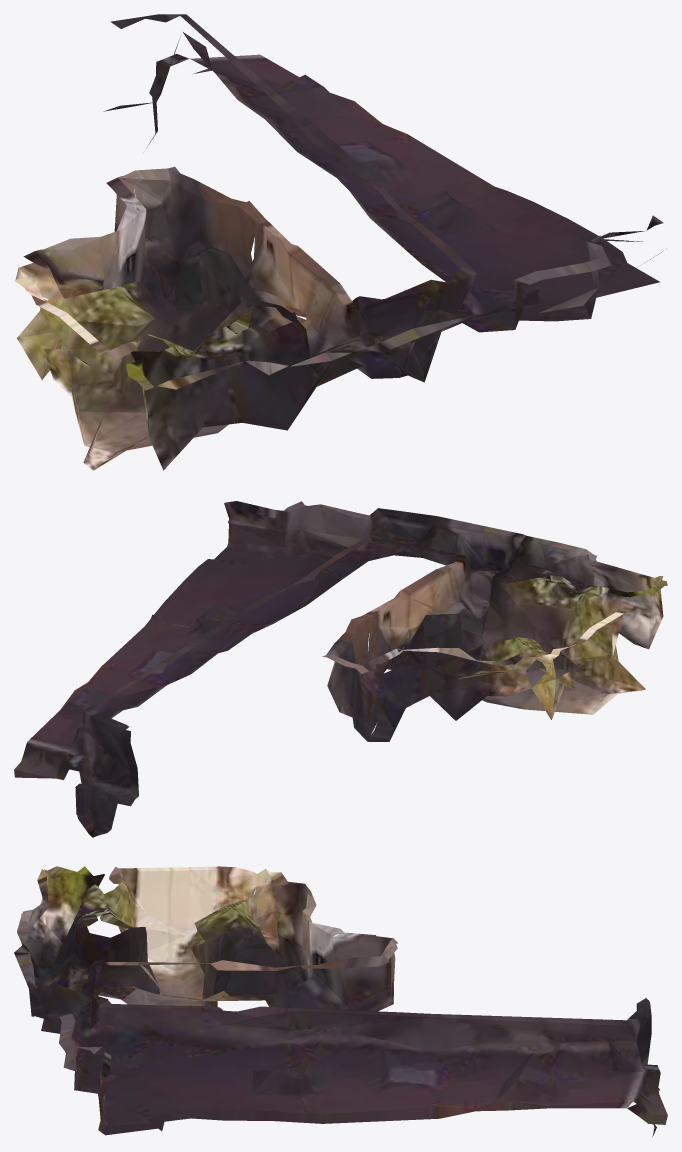
3 views of the same model, one above another, from view 1: azimuth 30°, elevation 25°; view 2: azimuth 150°, elevation 25°; view 3: azimuth 270°, elevation 25° (orthographic). The views are drawn at different scales.
Parts seen in each view (by area): view 1: Mesh_0; view 2: Mesh_0; view 3: Mesh_0.
Part boxes in pixels (left/top/right/bottom): Mesh_0: left=14, top=14, right=663, bottom=470; Mesh_0: left=14, top=501, right=667, bottom=837; Mesh_0: left=14, top=866, right=667, bottom=1136.
Size of the model in its own units: 27.37 by 7.32 by 34.46.
1 material, 1 textured.
